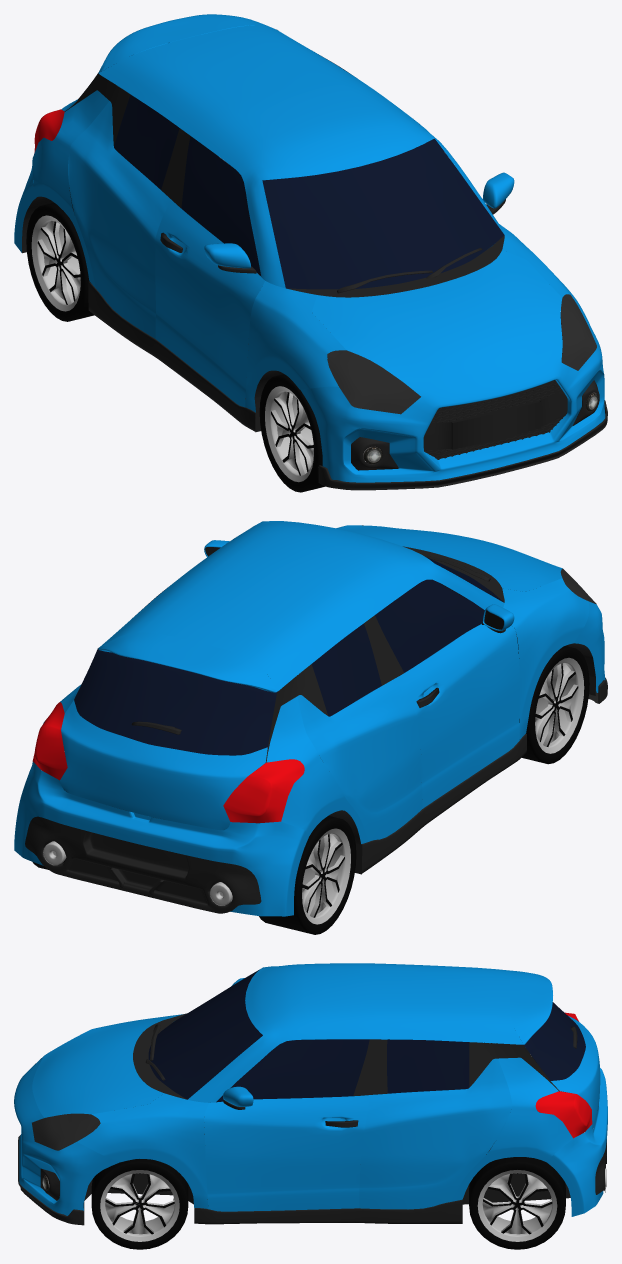
File: SuperminiCar.fbx
3 renders of one model, top to bottom at view 1: azimuth 30°, elevation 25°; view 2: azimuth 150°, elevation 25°; view 3: azimuth 270°, elevation 25°, orthographic. The views are drawn at different scales.
Visible parts, largest first — view 1: BASIC_BODY, front_mirrors, front_bumper, tire_RR, tire_FR, front_headlight, front_side_mirror, number_plate_tray, rear_side_mirror, side_skirts, bottom_tray, front_bumper_skirt (+9 smaller); view 2: BASIC_BODY, rear_mirror, rear_bumper, rear_bumper_carbon, tire_RR, front_side_mirror, tire_FR, rear_lights, rear_side_mirror, side_skirts, front_bumper, bottom_tray (+6 smaller); view 3: BASIC_BODY, front_mirrors, tire_RL, trire_FL, front_side_mirror, front_bumper, rear_side_mirror, side_skirts, rear_bumper, rear_mirror, front_headlight, rear_lights (+10 smaller).
Part boxes in pixels (bbox=[...]): BASIC_BODY: bbox=[32, 14, 589, 412]; front_mirrors: bbox=[262, 138, 504, 289]; front_bumper: bbox=[300, 324, 605, 482]; tire_RR: bbox=[26, 199, 94, 321]; tire_FR: bbox=[259, 374, 355, 492]; front_headlight: bbox=[327, 294, 596, 414]; front_side_mirror: bbox=[181, 136, 261, 276]; number_plate_tray: bbox=[423, 390, 567, 450]; rear_side_mirror: bbox=[114, 54, 351, 189]; side_skirts: bbox=[88, 281, 255, 431]; bottom_tray: bbox=[22, 187, 563, 458]; front_bumper_skirt: bbox=[318, 400, 607, 490]; BASIC_BODY: bbox=[43, 521, 589, 843]; rear_mirror: bbox=[74, 648, 277, 755]; rear_bumper: bbox=[14, 761, 308, 916]; rear_bumper_carbon: bbox=[25, 816, 261, 913]; tire_RR: bbox=[259, 815, 356, 934]; front_side_mirror: bbox=[375, 579, 484, 672]; tire_FR: bbox=[517, 640, 589, 764]; rear_lights: bbox=[32, 702, 304, 823]; rear_side_mirror: bbox=[135, 587, 381, 716]; side_skirts: bbox=[362, 733, 526, 873]; front_bumper: bbox=[400, 570, 605, 692]; bottom_tray: bbox=[223, 583, 595, 874]; BASIC_BODY: bbox=[32, 963, 600, 1211]; front_mirrors: bbox=[148, 970, 262, 1099]; tire_RL: bbox=[469, 1157, 565, 1249]; trire_FL: bbox=[91, 1159, 188, 1249]; front_side_mirror: bbox=[216, 1039, 369, 1102]; front_bumper: bbox=[14, 1055, 119, 1215]; rear_side_mirror: bbox=[387, 1039, 469, 1093]; side_skirts: bbox=[194, 1200, 462, 1224]; rear_bumper: bbox=[547, 1068, 607, 1216]; rear_mirror: bbox=[522, 1002, 585, 1080]; front_headlight: bbox=[32, 1058, 100, 1150]; rear_lights: bbox=[535, 1012, 592, 1138].
Size of the model in its own units: 232 by 190 by 486.
